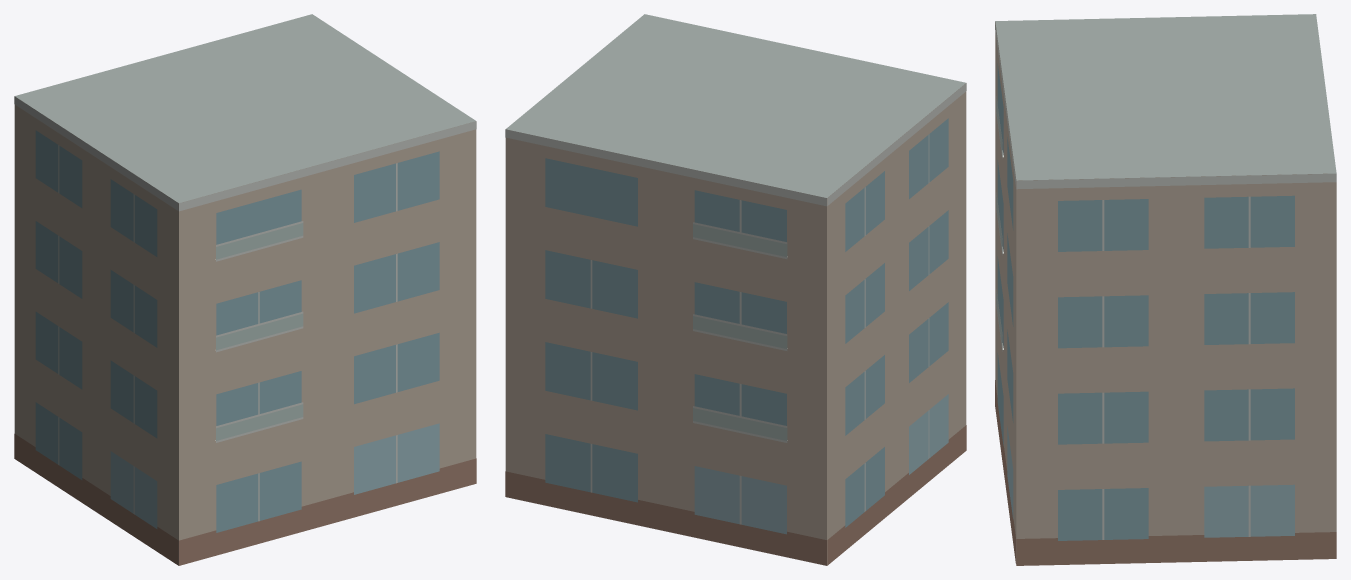
Rendered from survey-upis-33047317.glb.
3 views of the same model, side by side, from view 1: azimuth 30°, elevation 25°; view 2: azimuth 150°, elevation 25°; view 3: azimuth 270°, elevation 25° (orthographic). The views are drawn at different scales.
Parts seen in each view (by area): view 1: survey-upis-33047317.tmp; view 2: survey-upis-33047317.tmp; view 3: survey-upis-33047317.tmp.
Boxes of the visible parts, <box> form: survey-upis-33047317.tmp: <box>14,14,476,565</box>; survey-upis-33047317.tmp: <box>505,14,966,565</box>; survey-upis-33047317.tmp: <box>995,14,1336,565</box>.
Size of the model in its own units: 10.02 by 10.8 by 8.68.
